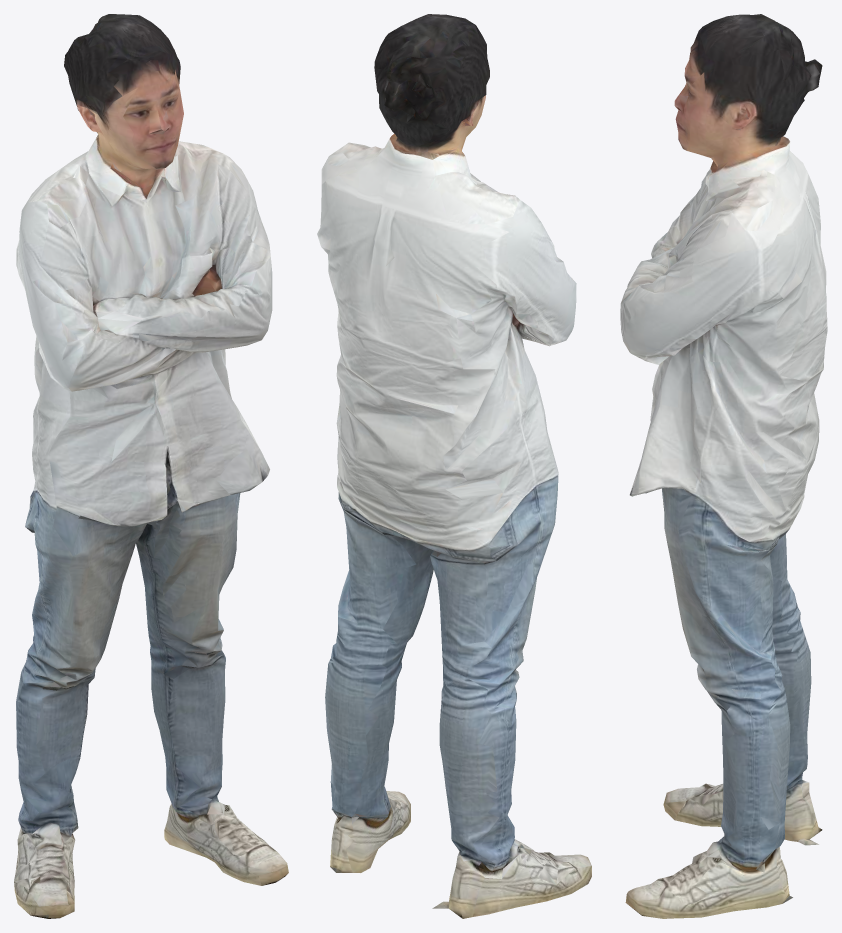
The picture shows the model from 3 angles, left to right: view 1: azimuth 30°, elevation 25°; view 2: azimuth 150°, elevation 25°; view 3: azimuth 270°, elevation 25°; orthographic projection.
Parts seen in each view (by area): view 1: Object_3.001; view 2: Object_3.001; view 3: Object_3.001.
Part boxes in pixels (x1,y1,x2,y2): Object_3.001: (14,14,288,918); Object_3.001: (317,14,591,918); Object_3.001: (620,14,827,918).
Size of the model in its own units: 0.5249 by 1.77 by 0.393.
1 material, 1 textured.
